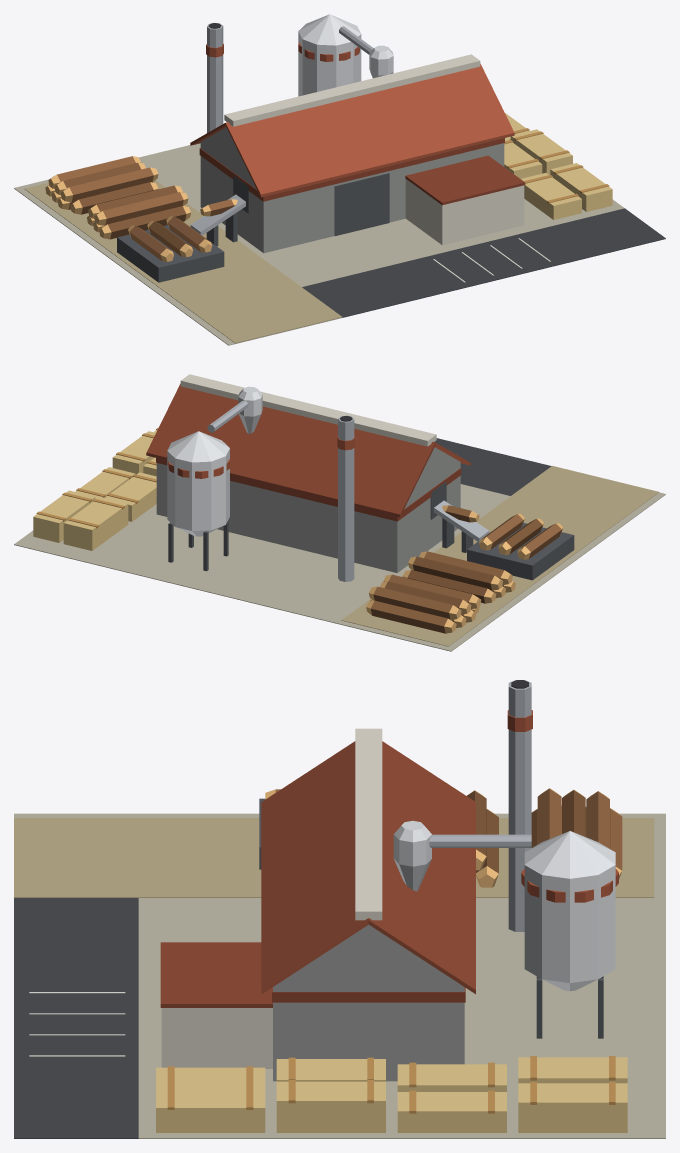
File: sawmill.glb
3 views of the same model, one above another, from view 1: azimuth 30°, elevation 25°; view 2: azimuth 150°, elevation 25°; view 3: azimuth 270°, elevation 25° (orthographic). The views are drawn at different scales.
Visible parts, largest first — view 1: sawmill; view 2: sawmill; view 3: sawmill.
Part boxes in pixels (x1,y1,x2,y2): sawmill: (14, 14, 665, 345); sawmill: (14, 374, 665, 651); sawmill: (14, 680, 665, 1138).
Bounding box in the file's own units: 40 × 14.06 × 34.
